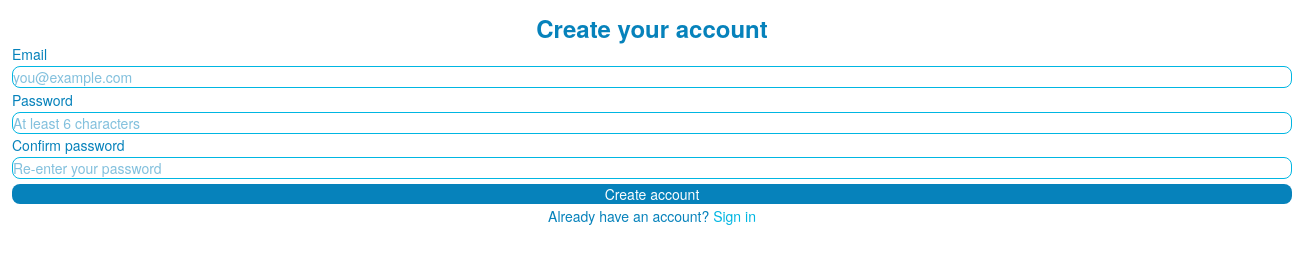
SignupPage › shows error when password is too short
Type "test@example.com" into the field labelled "Email" at (652, 77), box [12,66,1292,88]
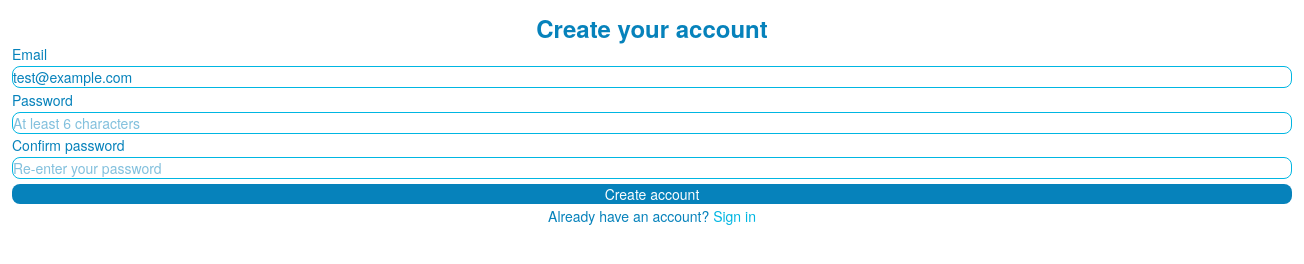
Type "short" into the password field labelled "Password" at (652, 123), box [12,112,1292,134]
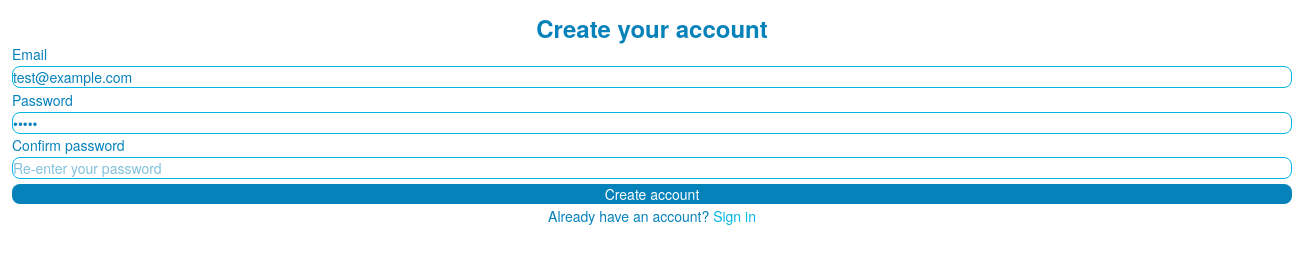
Type "short" into the password field labelled "Confirm password" at (652, 168), box [12,157,1292,179]
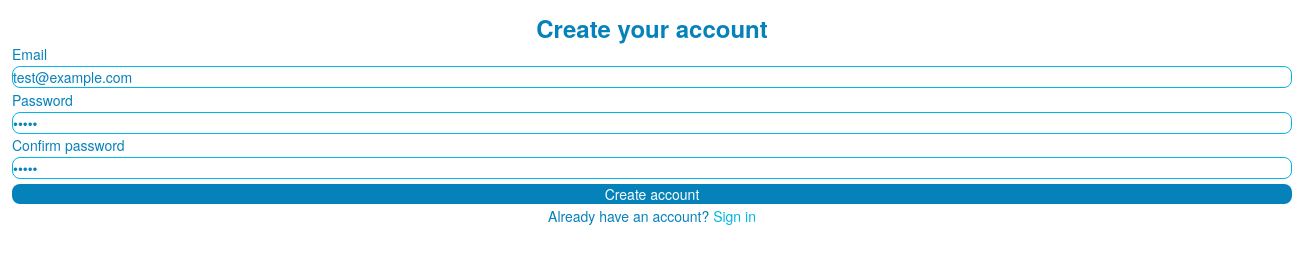
Click the button "Create account" at (652, 194), box [12,184,1292,204]
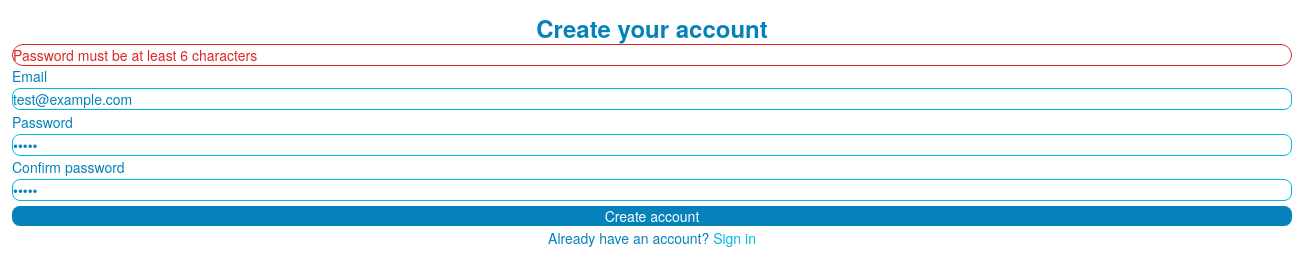
expect the text "Password must be at least 6 characters" is shown: met, box [12,44,1292,66]
